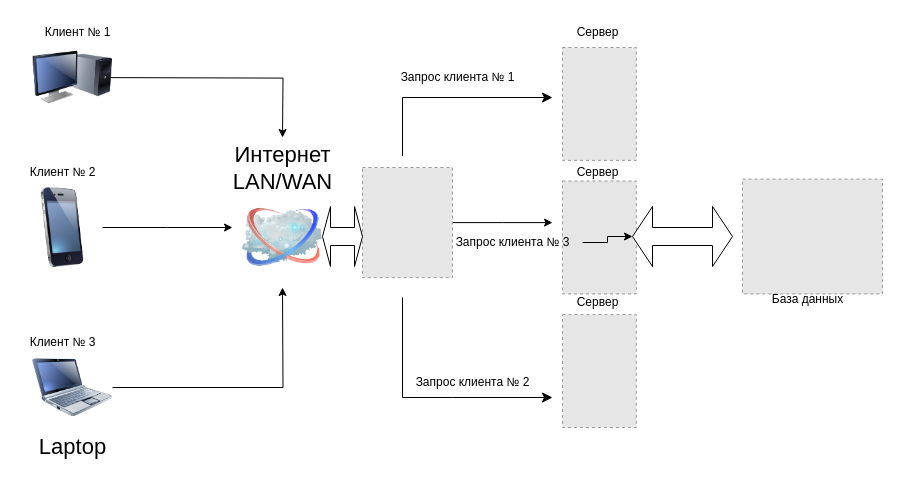
The diagram is 900 pixels wide and 477 high, and some of its shapes have lost their labels. Grey dashed boxes stand in for pictures. Here are the shapes that lost their labels. From the top down, the box of each, then its label:
(32, 37, 112, 117): PC
(22, 187, 102, 267): Mobile
